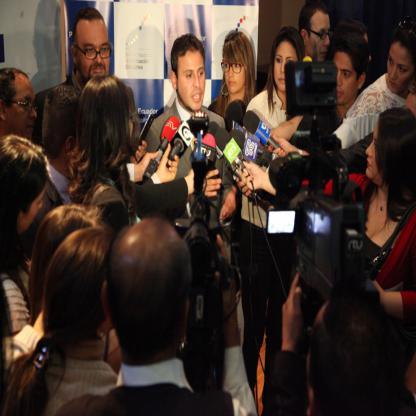Camera: (267, 54, 379, 340)
